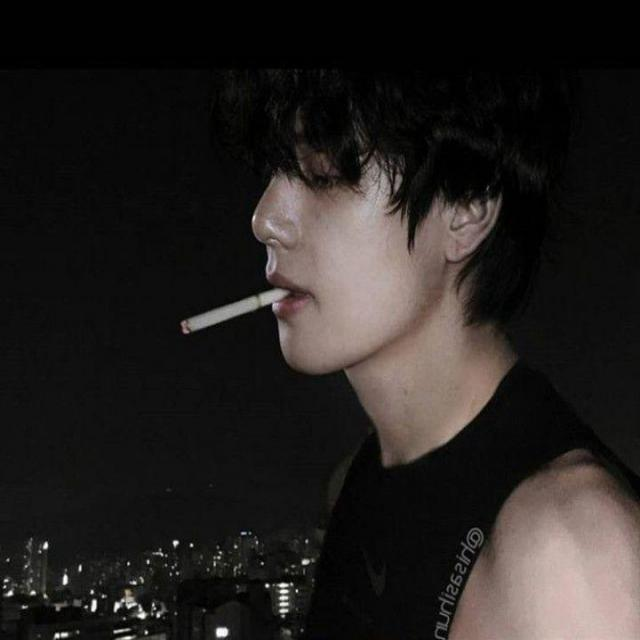cigarette: (153, 270, 304, 358)
